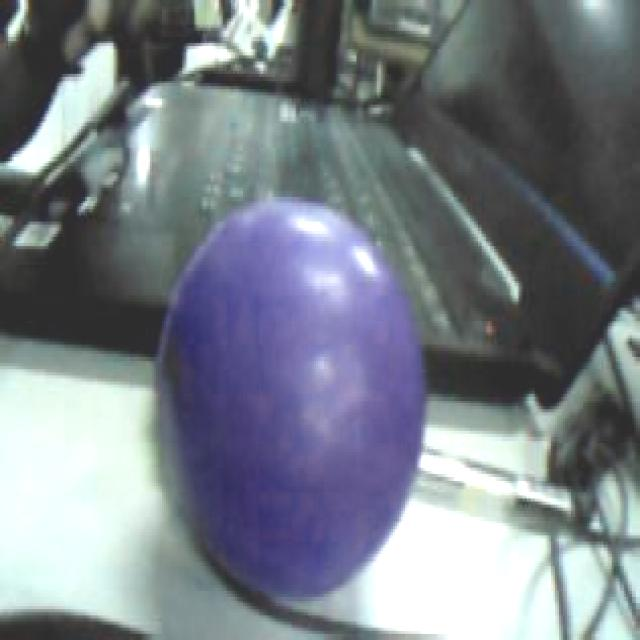BallPurple: (157, 197, 425, 600)
